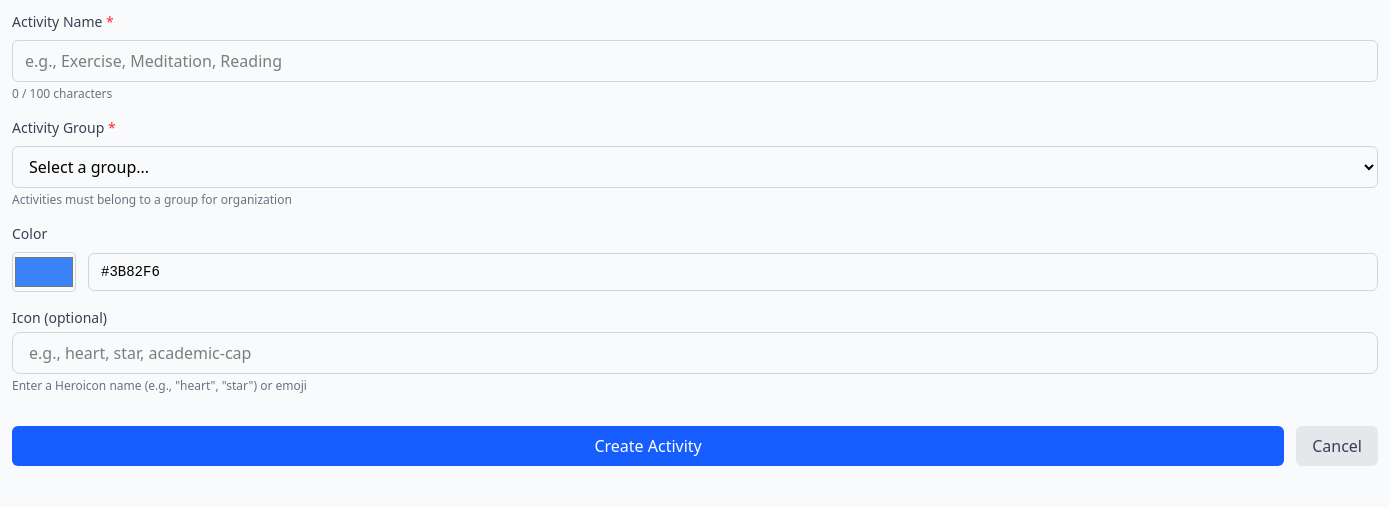
Test case: ActivityForm › Validation › should show error for invalid color format
Type "Test" into the field with id "activity-name".
click(695, 61); type("Test")  # box [12,40,1378,82]
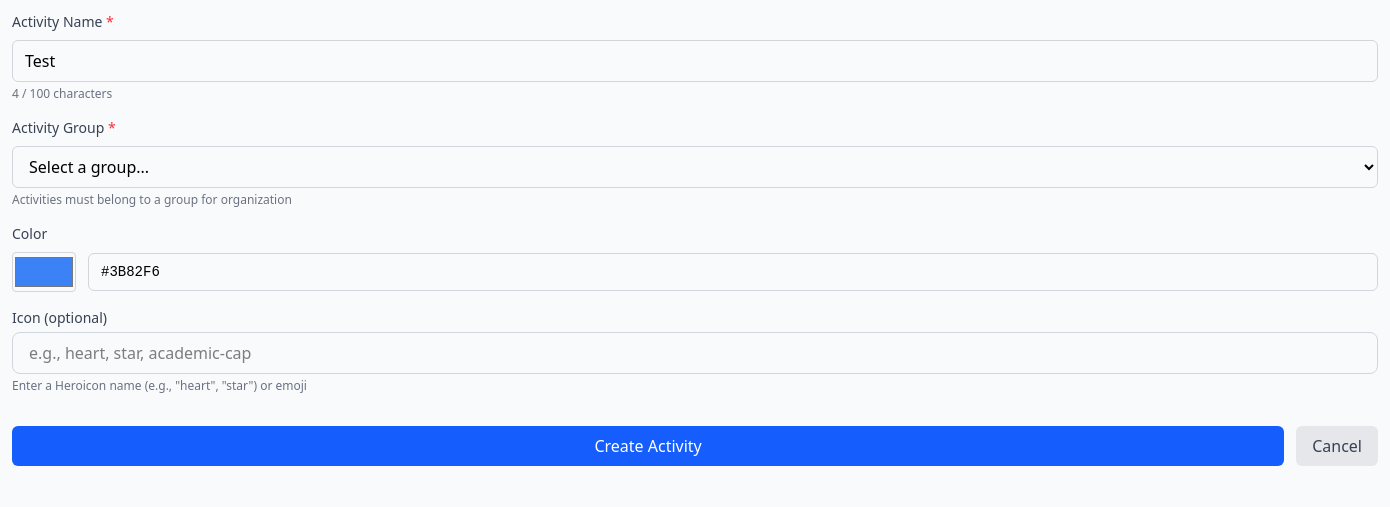
Select "Physical" in the dropdown with id "activity-group" at (695, 167), box [12,146,1378,188]
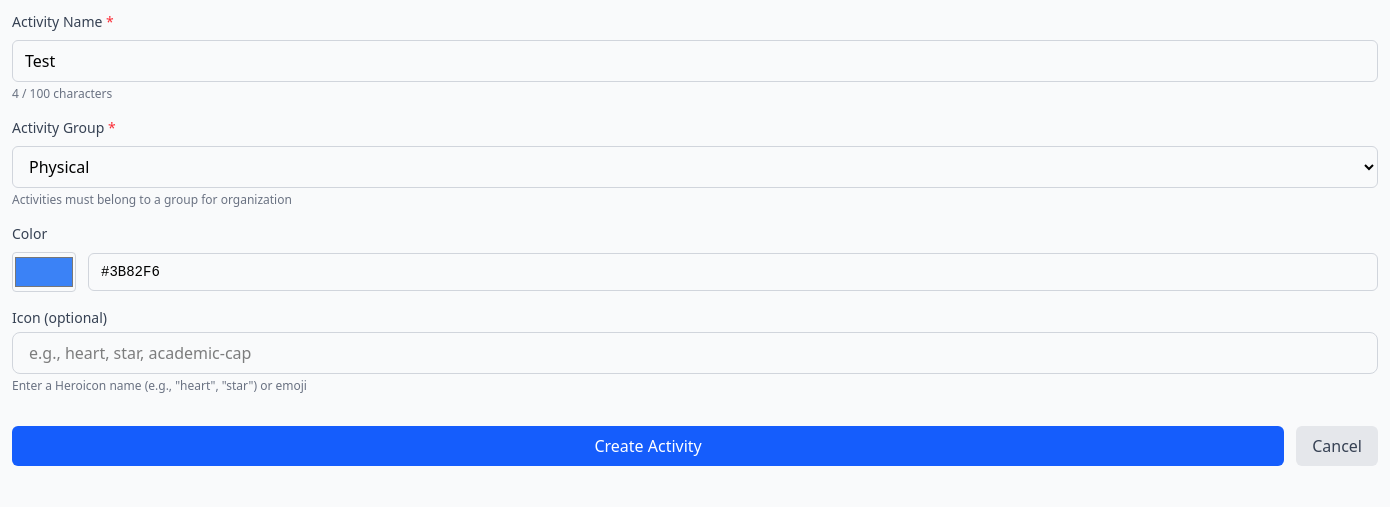
Type "invalid" into the 2nd field.
click(733, 272); type("invalid")  # box [88,253,1378,291]
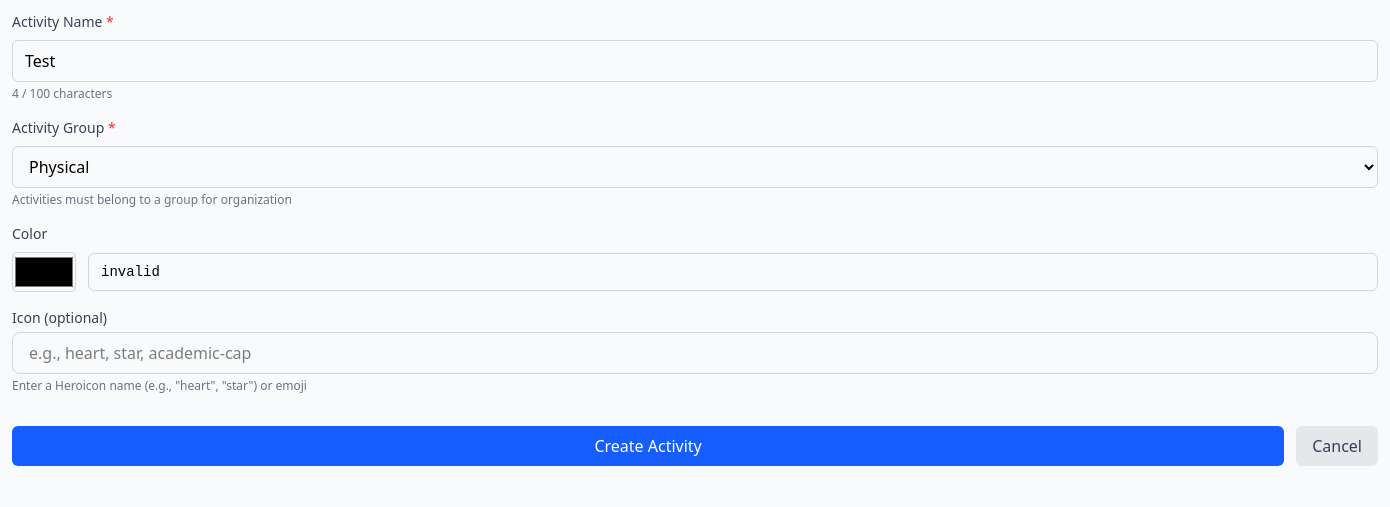
Submit the form
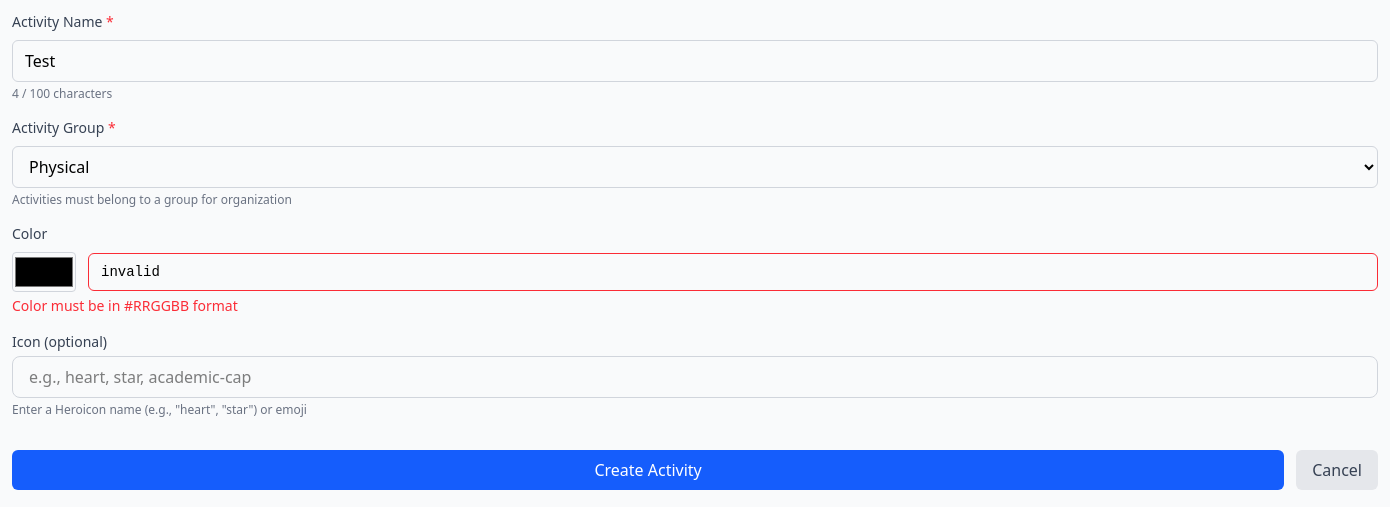
Result: the text "Color must be in #RRGGBB format" is shown at [12,296,238,315]
